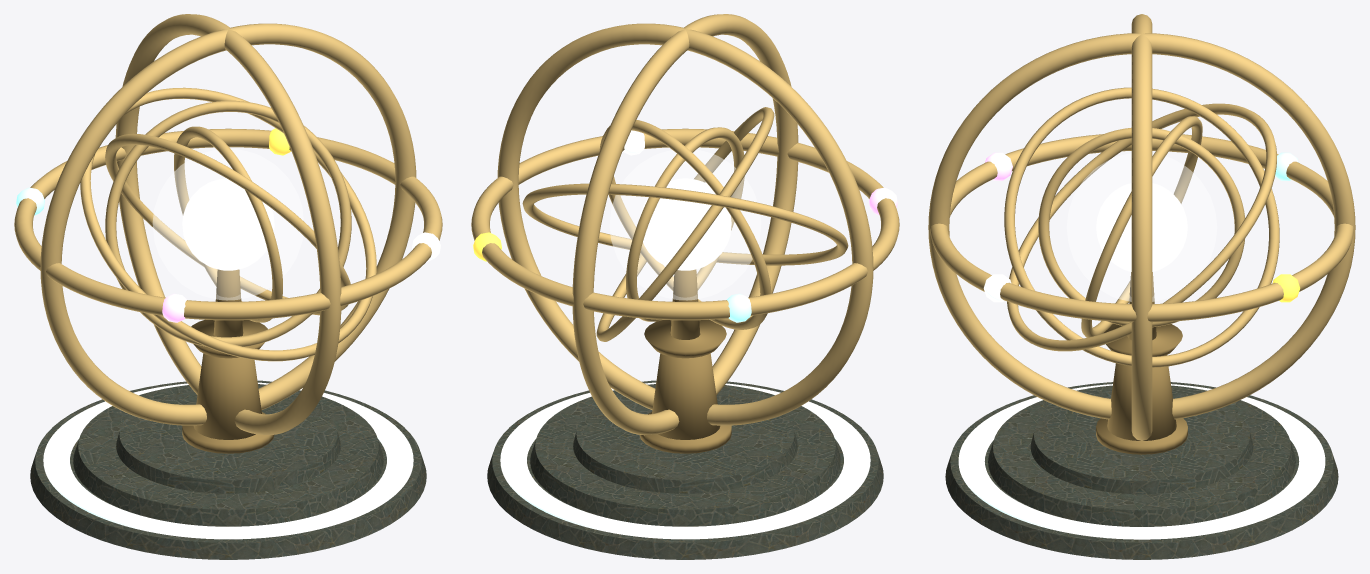
Rendered from temple_center.gltf.
3 renders of one model, left to right at view 1: azimuth 30°, elevation 25°; view 2: azimuth 150°, elevation 25°; view 3: azimuth 270°, elevation 25°, orthographic.
Parts seen in each view (by area): view 1: Center_Frame, Center_Dais, Center_Rings, Center_CoreHalo, Center_DaisGlow, Center_Pedestal, Center_Core, Center_Gem_thunder; view 2: Center_Frame, Center_Dais, Center_Rings, Center_CoreHalo, Center_DaisGlow, Center_Pedestal, Center_Core, Center_Gem_wind; view 3: Center_Frame, Center_Dais, Center_Rings, Center_CoreHalo, Center_DaisGlow, Center_Pedestal, Center_Core.
Boxes of the visible parts, bbox=[...] form: Center_Frame: bbox=[14, 14, 442, 435]; Center_Dais: bbox=[30, 380, 426, 559]; Center_Rings: bbox=[80, 87, 376, 361]; Center_CoreHalo: bbox=[153, 149, 303, 300]; Center_DaisGlow: bbox=[43, 382, 413, 539]; Center_Pedestal: bbox=[182, 269, 274, 453]; Center_Core: bbox=[182, 178, 274, 270]; Center_Gem_thunder: bbox=[162, 293, 186, 322]; Center_Frame: bbox=[471, 14, 899, 435]; Center_Dais: bbox=[487, 380, 883, 559]; Center_Rings: bbox=[522, 107, 848, 341]; Center_CoreHalo: bbox=[610, 150, 760, 300]; Center_DaisGlow: bbox=[500, 382, 870, 539]; Center_Pedestal: bbox=[639, 269, 731, 453]; Center_Core: bbox=[640, 178, 731, 270]; Center_Gem_wind: bbox=[727, 293, 751, 322]; Center_Frame: bbox=[928, 14, 1355, 440]; Center_Dais: bbox=[945, 382, 1338, 559]; Center_Rings: bbox=[1004, 87, 1279, 367]; Center_CoreHalo: bbox=[1067, 153, 1216, 301]; Center_DaisGlow: bbox=[958, 384, 1325, 539]; Center_Pedestal: bbox=[1096, 272, 1187, 454]; Center_Core: bbox=[1096, 183, 1187, 271].
Size of the model in its own units: 13.04 by 14.92 by 13.04.
Materials: 10 (1 with a texture image).
